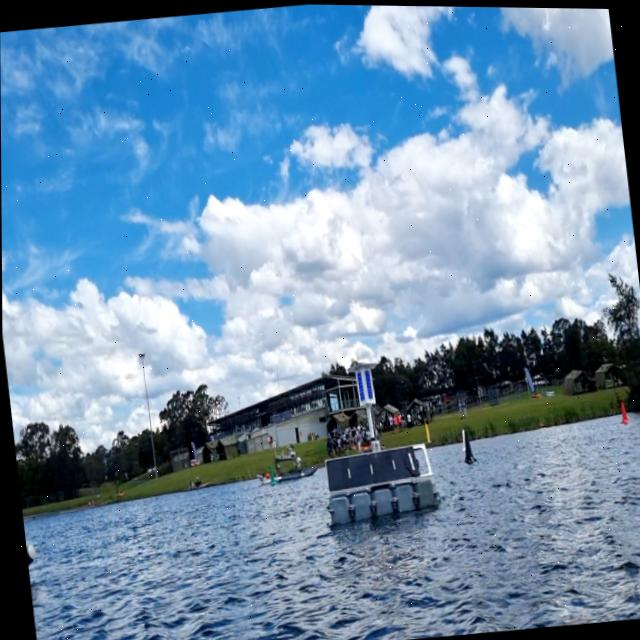led: (362, 366, 374, 401), (355, 369, 365, 400)
